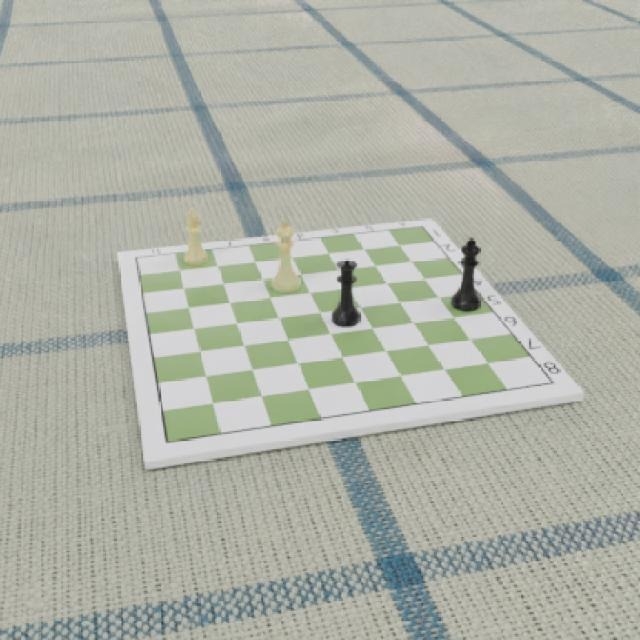black-king: (447, 236, 480, 311)
black-queen: (330, 255, 360, 330)
white-bishop: (182, 206, 205, 269)
white-king: (271, 220, 303, 295)
